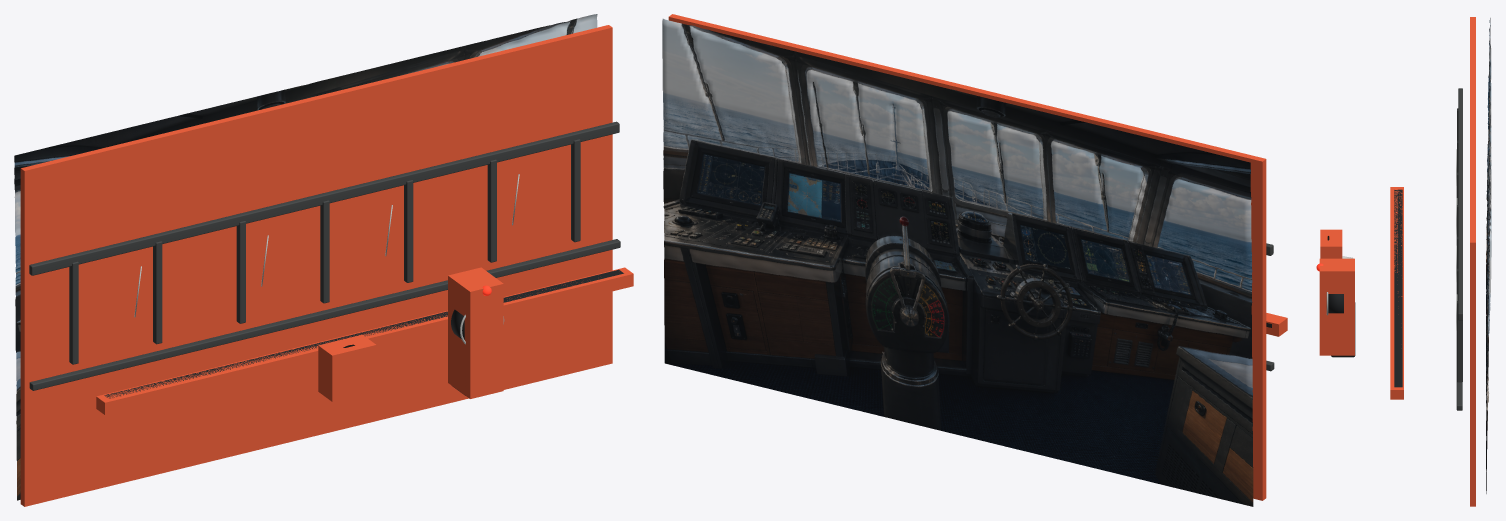
The model's file is ModernBridgeDepthRelief_VR_v1.0.glb.
3 views of the same model, side by side, from view 1: azimuth 30°, elevation 25°; view 2: azimuth 150°, elevation 25°; view 3: azimuth 270°, elevation 25° (orthographic). The views are drawn at different scales.
Visible parts, largest first — view 1: COL_depth_relief_backstop, visual_bridge_cockpit_depth_relief, COL_console_lip, depth_overlay_top_window_header, COL_telegraph_proxy, depth_overlay_console_sill, COL_helm_proxy, depth_overlay_real_console_lip, depth_overlay_window_mullion.001, depth_overlay_window_mullion.006, depth_overlay_window_mullion.003, depth_overlay_window_mullion.004 (+3 smaller); view 2: visual_bridge_cockpit_depth_relief, COL_depth_relief_backstop; view 3: COL_telegraph_proxy, COL_depth_relief_backstop, COL_console_lip, depth_overlay_real_console_lip, visual_bridge_cockpit_depth_relief, depth_overlay_top_window_header, COL_helm_proxy, depth_overlay_window_mullion.006, physical_telegraph_drum_proxy, depth_overlay_console_sill.
Boxes of the visible parts, bbox=[...] form: COL_depth_relief_backstop: bbox=[20, 25, 612, 506]; visual_bridge_cockpit_depth_relief: bbox=[14, 14, 597, 500]; COL_console_lip: bbox=[96, 267, 633, 414]; depth_overlay_top_window_header: bbox=[29, 121, 619, 275]; COL_telegraph_proxy: bbox=[448, 267, 503, 398]; depth_overlay_console_sill: bbox=[29, 239, 620, 390]; COL_helm_proxy: bbox=[318, 334, 376, 401]; depth_overlay_real_console_lip: bbox=[104, 269, 623, 398]; depth_overlay_window_mullion.001: bbox=[153, 241, 162, 344]; depth_overlay_window_mullion.006: bbox=[571, 139, 580, 242]; depth_overlay_window_mullion.003: bbox=[320, 200, 329, 303]; depth_overlay_window_mullion.004: bbox=[404, 180, 413, 282]; visual_bridge_cockpit_depth_relief: bbox=[662, 18, 1253, 506]; COL_depth_relief_backstop: bbox=[668, 14, 1266, 500]; COL_telegraph_proxy: bbox=[1319, 258, 1354, 355]; COL_depth_relief_backstop: bbox=[1470, 17, 1475, 506]; COL_console_lip: bbox=[1390, 187, 1403, 399]; depth_overlay_real_console_lip: bbox=[1394, 189, 1402, 387]; visual_bridge_cockpit_depth_relief: bbox=[1486, 18, 1491, 493]; depth_overlay_top_window_header: bbox=[1458, 88, 1462, 320]; COL_helm_proxy: bbox=[1320, 229, 1342, 258]; depth_overlay_window_mullion.006: bbox=[1457, 301, 1462, 382]; physical_telegraph_drum_proxy: bbox=[1328, 294, 1343, 313]; depth_overlay_console_sill: bbox=[1456, 186, 1462, 410].
Size of the model in its own units: 10.9 by 6.07 by 3.58.
7 materials, 1 textured.
